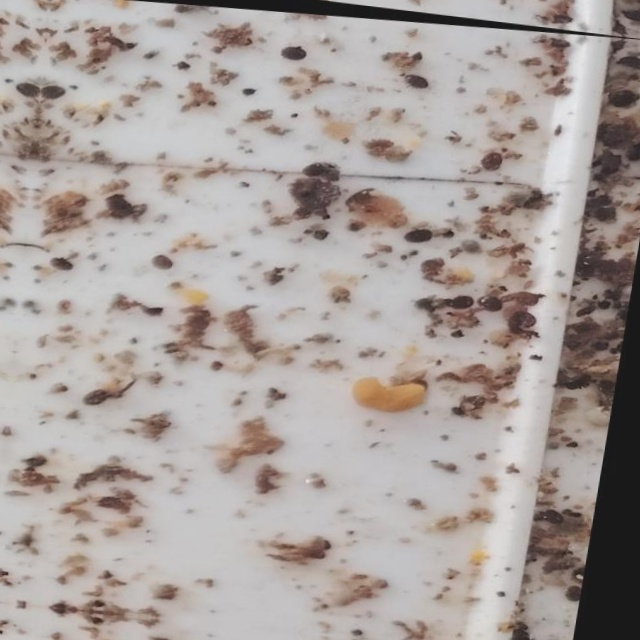varroa: (302, 159, 337, 178), (86, 385, 116, 406), (479, 294, 509, 314), (405, 225, 435, 245), (480, 151, 504, 174), (547, 509, 572, 529), (278, 43, 307, 60), (150, 252, 177, 270), (450, 293, 476, 311), (403, 73, 430, 90), (40, 81, 67, 98), (514, 311, 538, 329), (51, 254, 76, 270), (600, 380, 620, 398), (570, 586, 588, 604)
